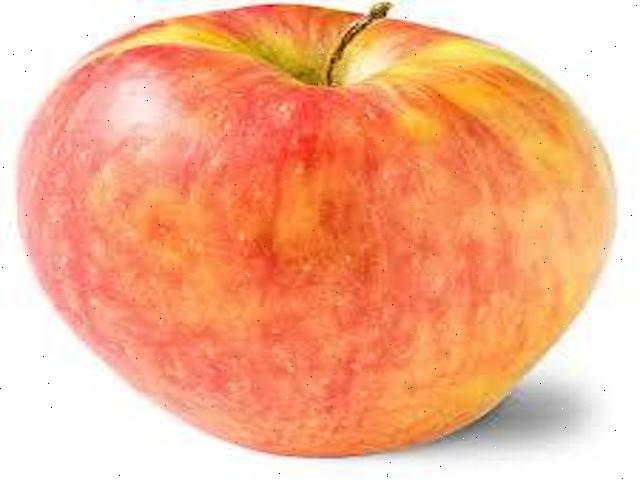apple: (9, 0, 622, 463)
